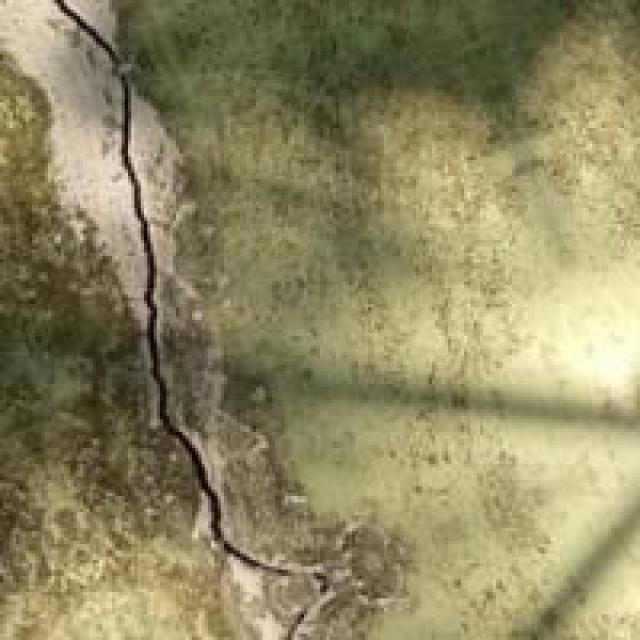crack: (0, 0, 378, 611)
